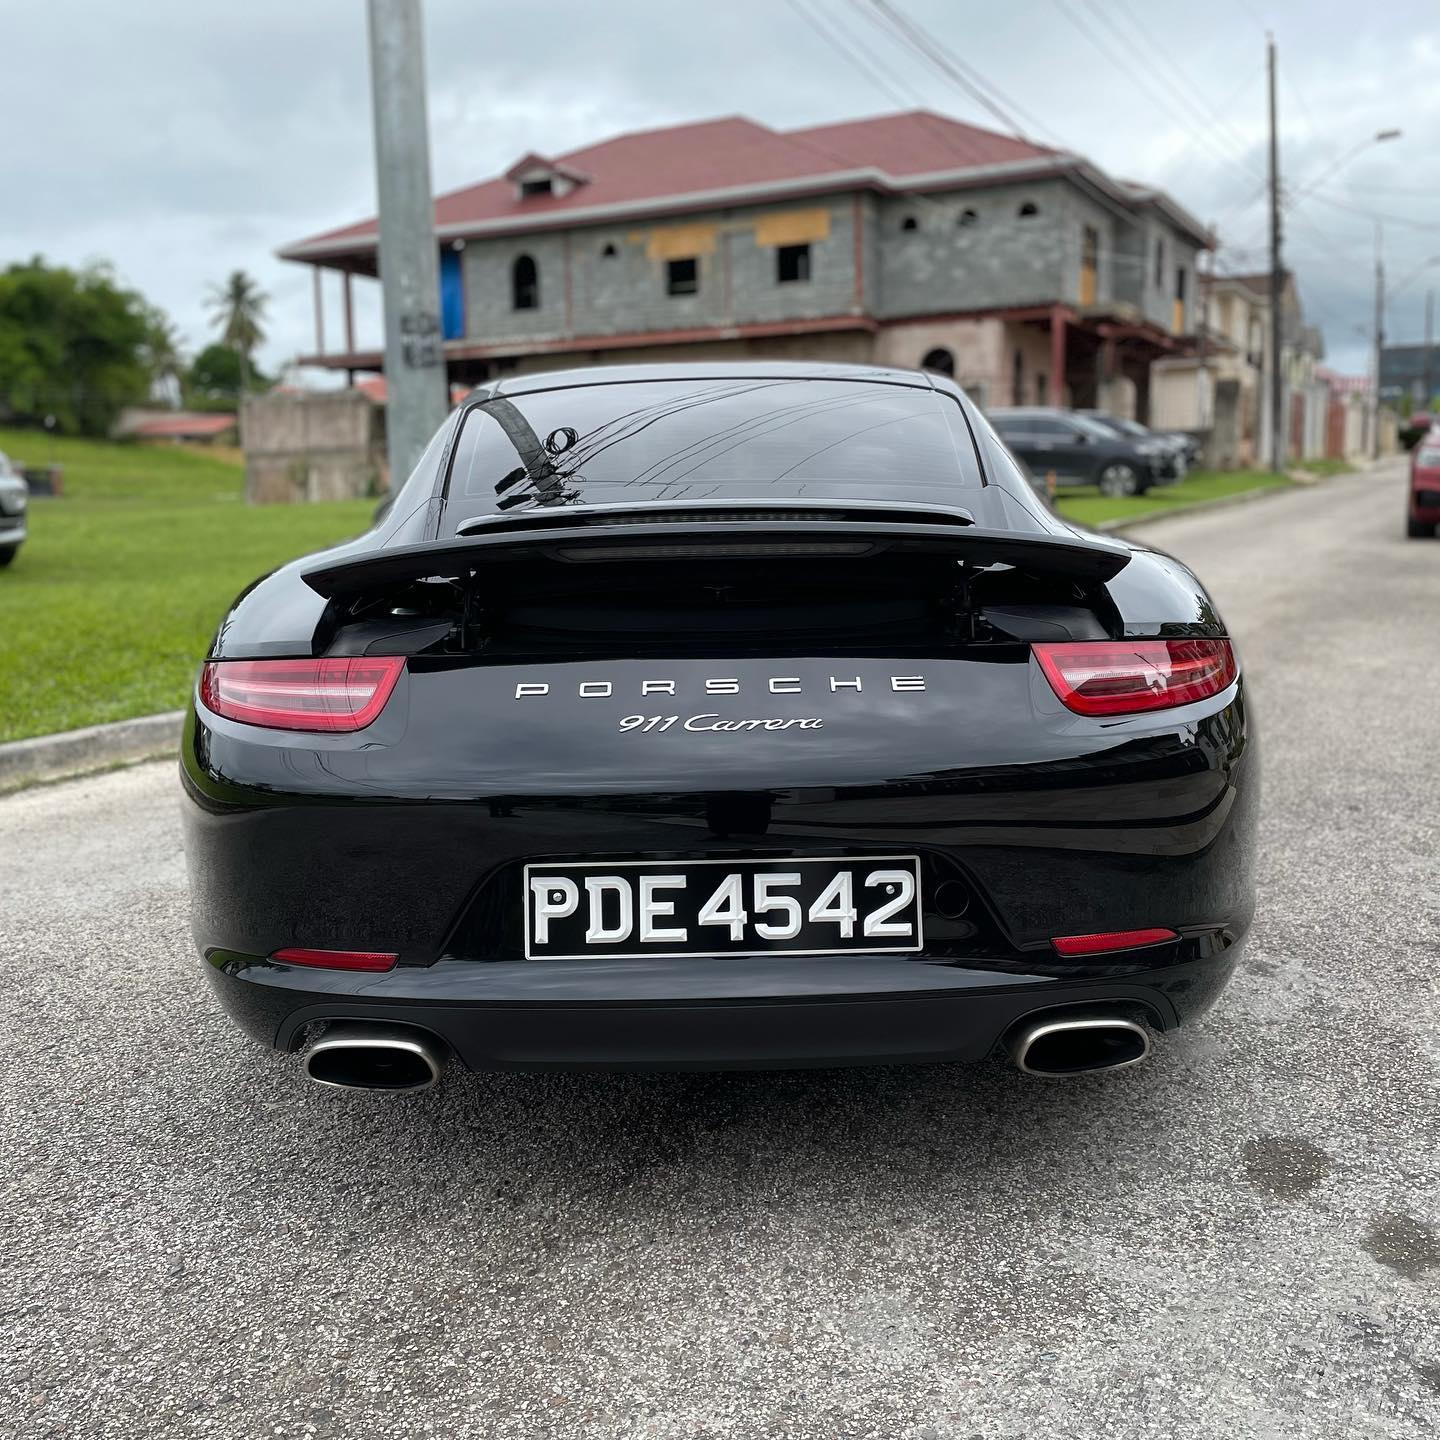License-Plate: (524, 864, 918, 955)
